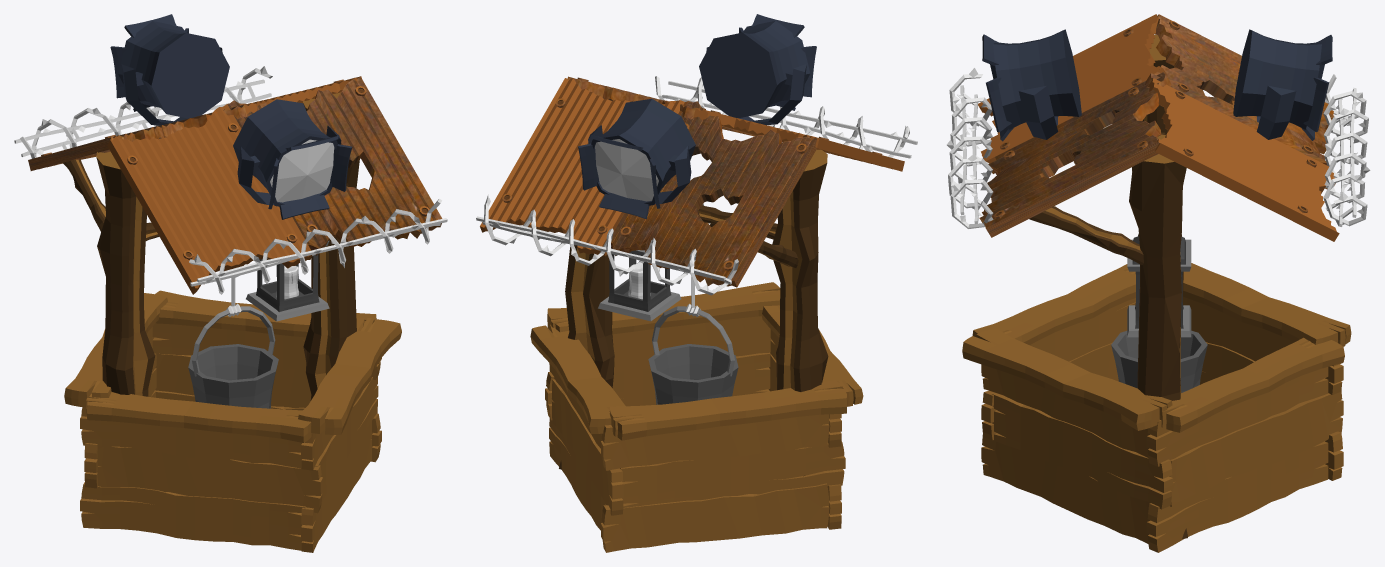
Rendered from well.fbx.
3 renders of one model, left to right at view 1: azimuth 30°, elevation 25°; view 2: azimuth 150°, elevation 25°; view 3: azimuth 270°, elevation 25°, orthographic. The views are drawn at different scales.
Parts seen in each view (by area): view 1: Cube.004, Cube.003, Cube.015, Cylinder.006, Cylinder.001, Cylinder.007, Cube.008, Cube, Cube.001, Cylinder.011, Cylinder, Cube.013 (+15 smaller); view 2: Cube.005, Cube.019, Cube.017, Cylinder.007, Cylinder.006, Cube.002, Cylinder.001, Cube.009, Cube.014, Cylinder.011, Cylinder, Cube.006 (+15 smaller); view 3: Cube.003, Cube.019, Cylinder, Cube.010, Cylinder.006, Cylinder.007, Cube.007, Cube.018, Cube.013, Cube.016, Cube.005, Cube.012 (+16 smaller).
Part boxes in pixels (x1,y1,x2,y2): Cube.004: (107, 104, 312, 294); Cube.003: (227, 76, 442, 255); Cube.015: (80, 482, 306, 550); Cylinder.006: (233, 99, 352, 219); Cylinder.001: (96, 151, 155, 396); Cylinder.007: (110, 14, 229, 125); Cube.008: (96, 446, 323, 513); Cube: (86, 392, 311, 442); Cube.001: (80, 407, 306, 468); Cylinder.011: (188, 277, 278, 408); Cylinder: (303, 92, 359, 400); Cube.013: (298, 318, 401, 434); Cube.005: (611, 101, 816, 287); Cube.019: (480, 78, 688, 256); Cube.017: (600, 483, 829, 552); Cylinder.007: (578, 98, 695, 219); Cylinder.006: (699, 14, 816, 125); Cube.002: (620, 441, 845, 507); Cylinder.001: (772, 149, 828, 476); Cube.009: (600, 414, 829, 470); Cube.014: (609, 380, 847, 440); Cylinder.011: (648, 203, 738, 404); Cylinder: (559, 245, 614, 469); Cube.006: (612, 316, 771, 372); Cube.003: (979, 72, 1171, 237); Cube.019: (1148, 78, 1339, 241); Cylinder: (1129, 134, 1187, 538); Cube.010: (992, 392, 1173, 509); Cylinder.006: (982, 29, 1081, 141); Cylinder.007: (1233, 29, 1332, 140); Cube.007: (1169, 391, 1343, 506); Cube.018: (1146, 439, 1329, 552); Cube.013: (962, 328, 1172, 430); Cube.016: (981, 434, 1150, 543); Cube.005: (1145, 14, 1333, 165); Cube.012: (1161, 337, 1344, 432).
Size of the model in its own units: 306 by 392 by 337.
